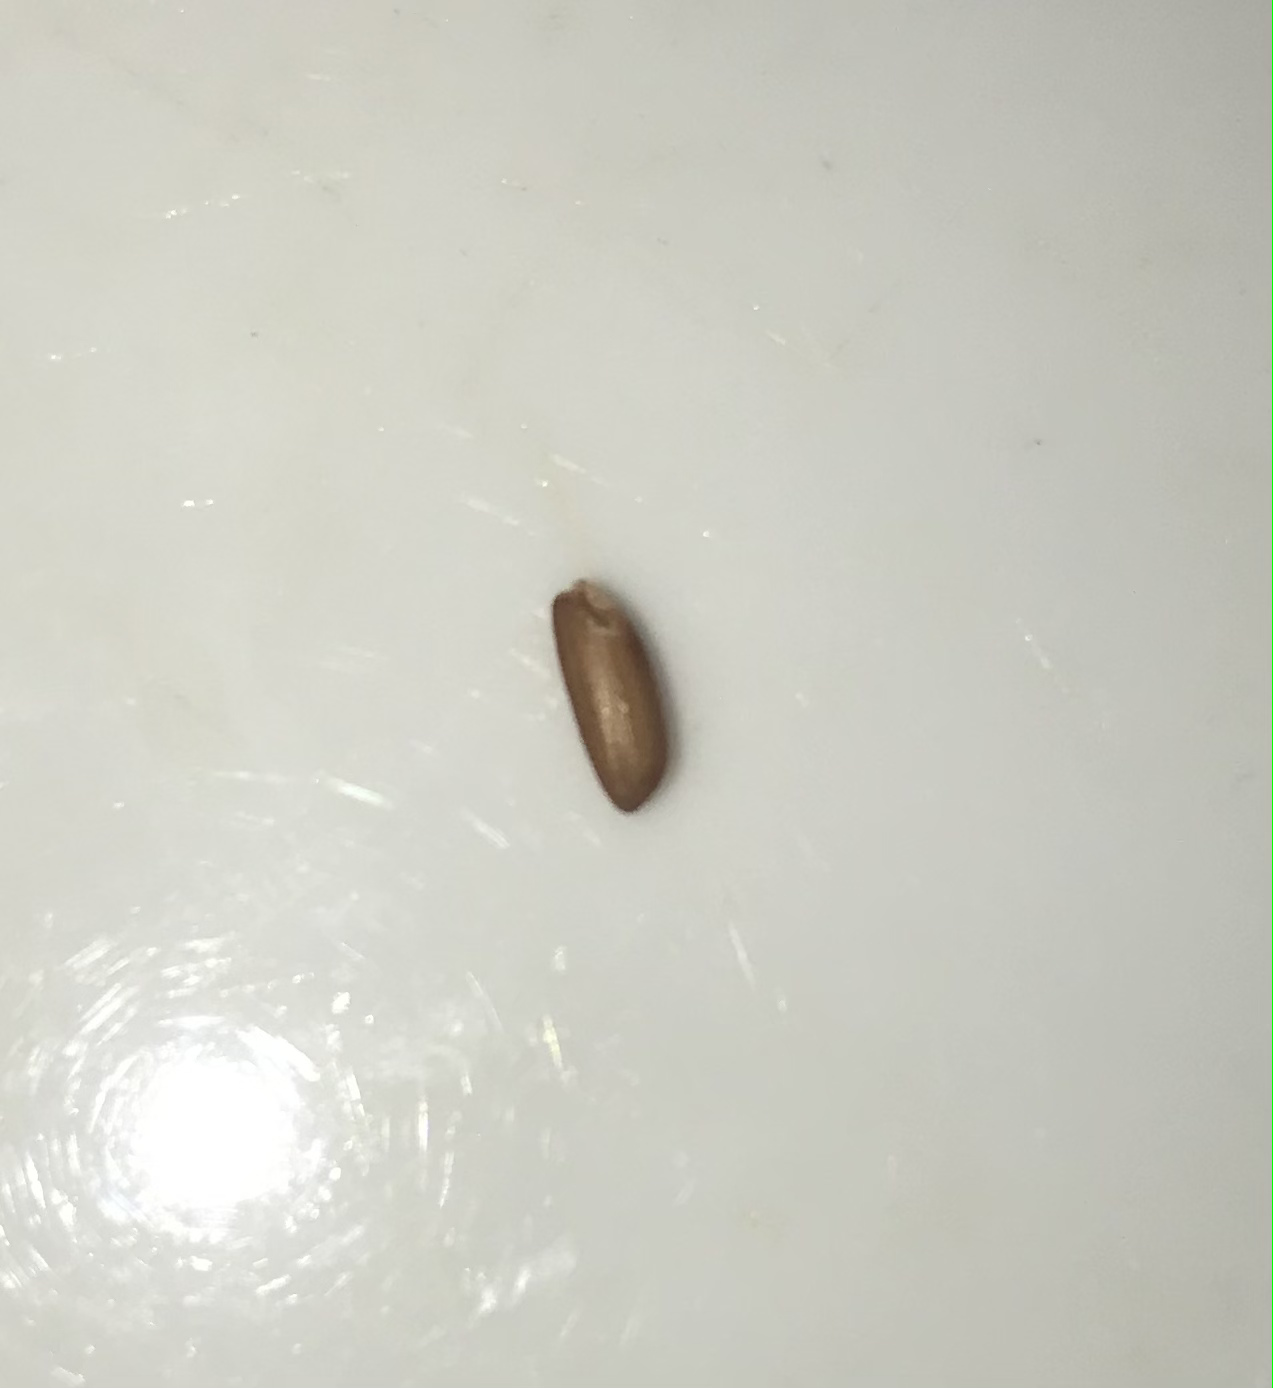Gao Lut Do: (550, 579, 683, 819)
